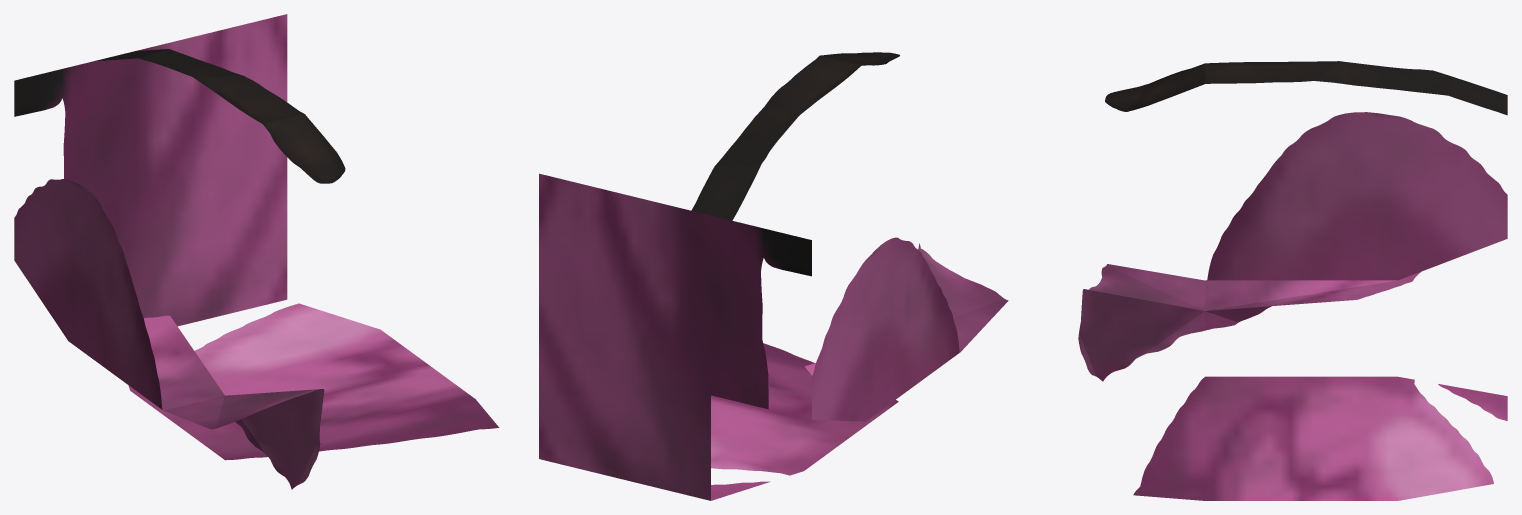
3 renders of one model, left to right at view 1: azimuth 30°, elevation 25°; view 2: azimuth 150°, elevation 25°; view 3: azimuth 270°, elevation 25°, orthographic.
Bounding box in the file's own units: 0.835 × 0.835 × 1.02.
